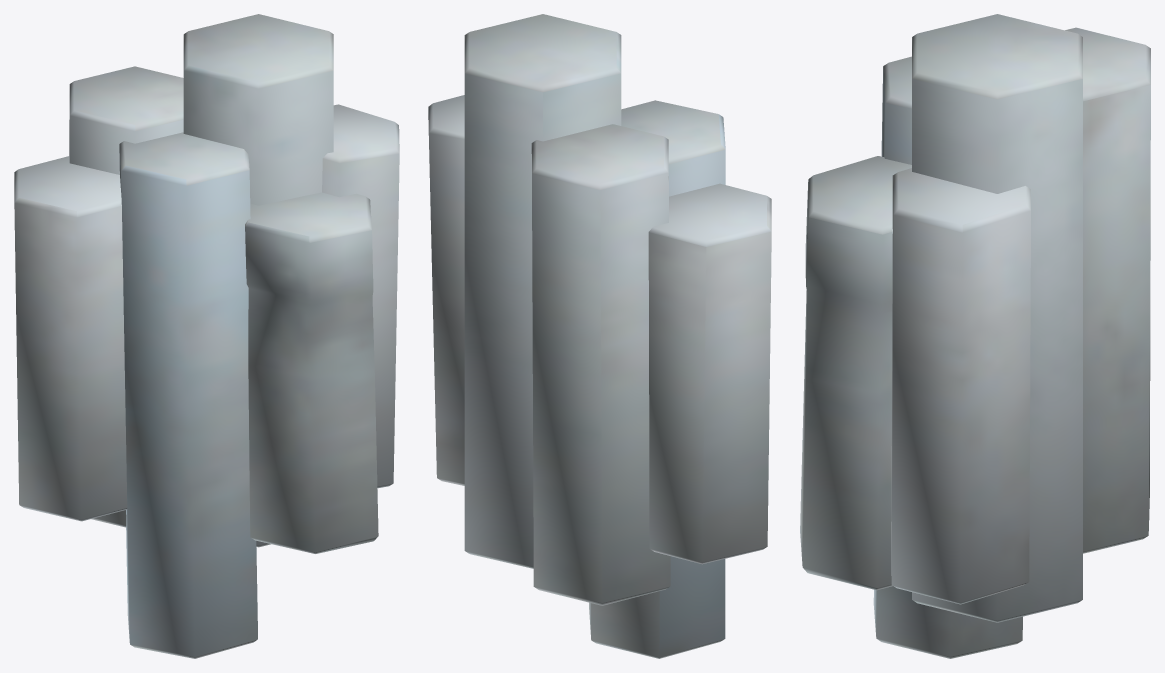
Rendered from P_RockHexic_Rocks04.obj.
3 views of the same model, side by side, from view 1: azimuth 30°, elevation 25°; view 2: azimuth 150°, elevation 25°; view 3: azimuth 270°, elevation 25° (orthographic). The views are drawn at different scales.
Size of the model in its own units: 10.75 by 15.79 by 8.03.
